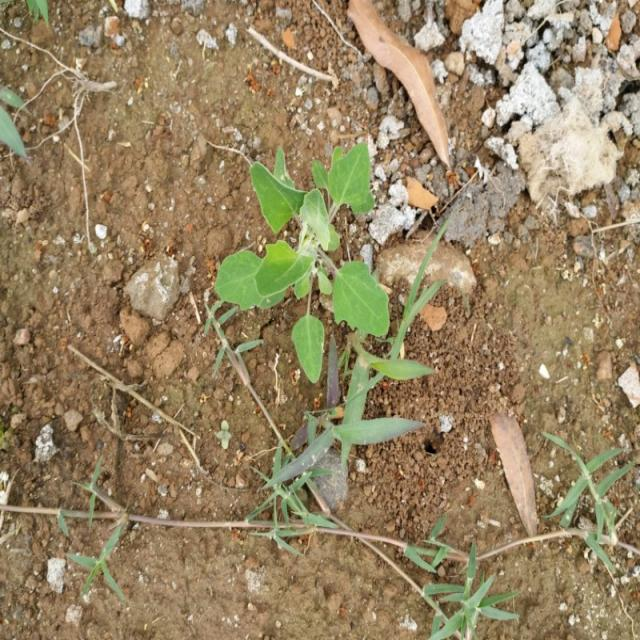ca: (213, 144, 390, 384)
